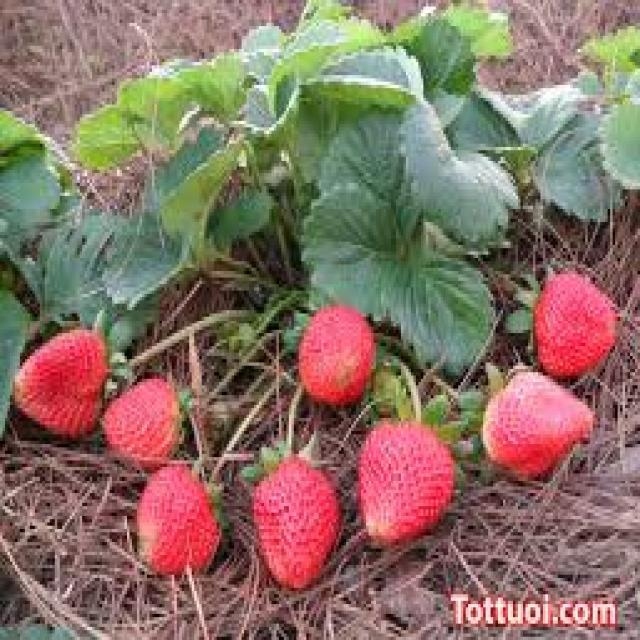Fruta sana: (248, 457, 344, 591), (359, 418, 459, 541), (482, 366, 592, 474), (12, 325, 105, 443), (536, 249, 619, 378), (136, 468, 219, 580), (104, 371, 188, 471), (299, 306, 379, 404)
